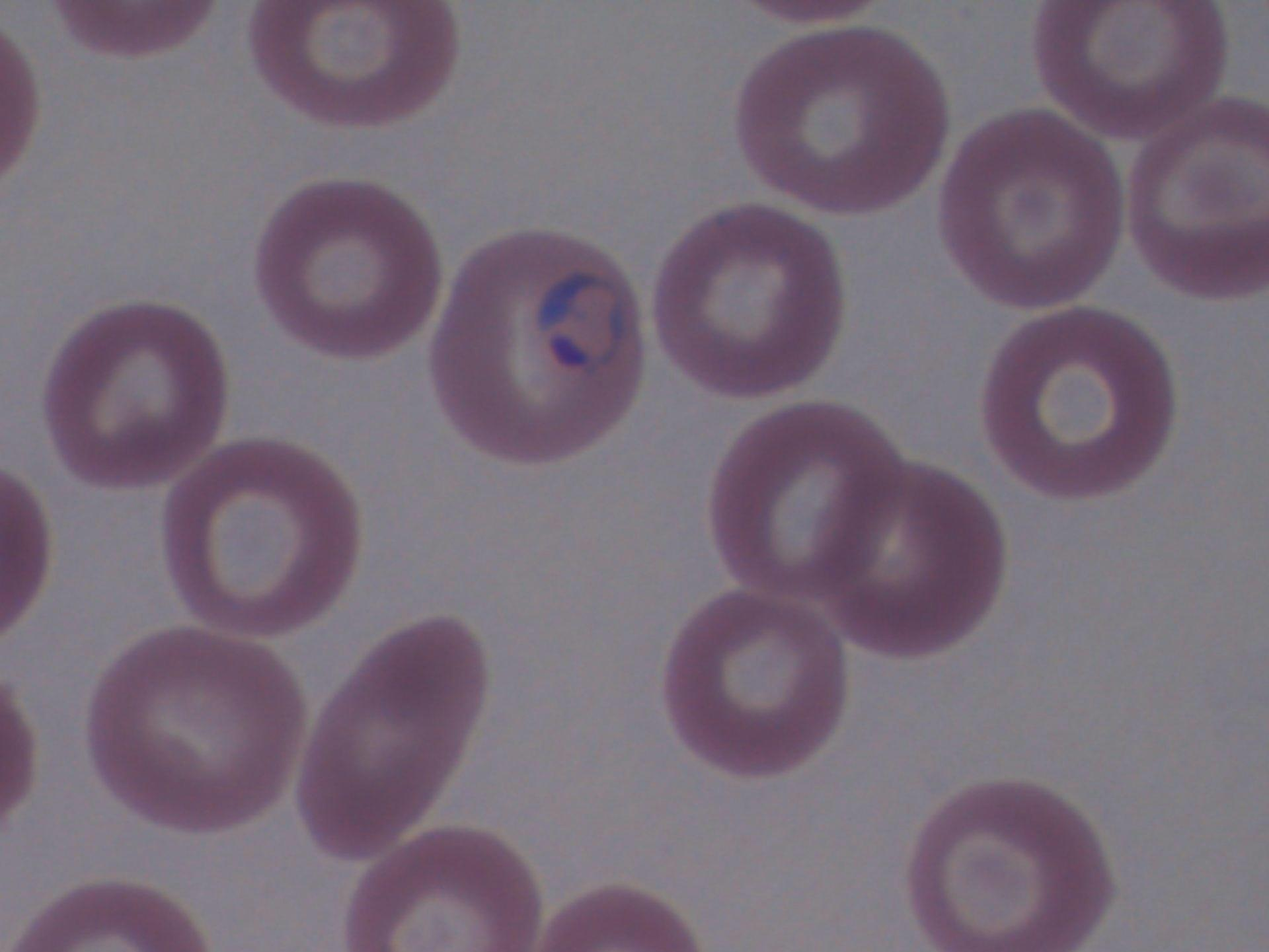Infected: (432, 230, 648, 461)
Uninfected: (297, 616, 486, 853), (89, 630, 304, 832), (710, 404, 907, 601), (738, 29, 944, 213), (163, 442, 357, 633), (945, 111, 1127, 310), (652, 208, 839, 400), (816, 469, 1005, 657), (983, 310, 1169, 495), (909, 782, 1108, 950), (666, 594, 849, 774), (46, 304, 226, 483), (258, 180, 442, 355), (1132, 100, 1268, 292), (250, 0, 454, 126), (1042, 0, 1217, 133), (344, 830, 531, 952)
